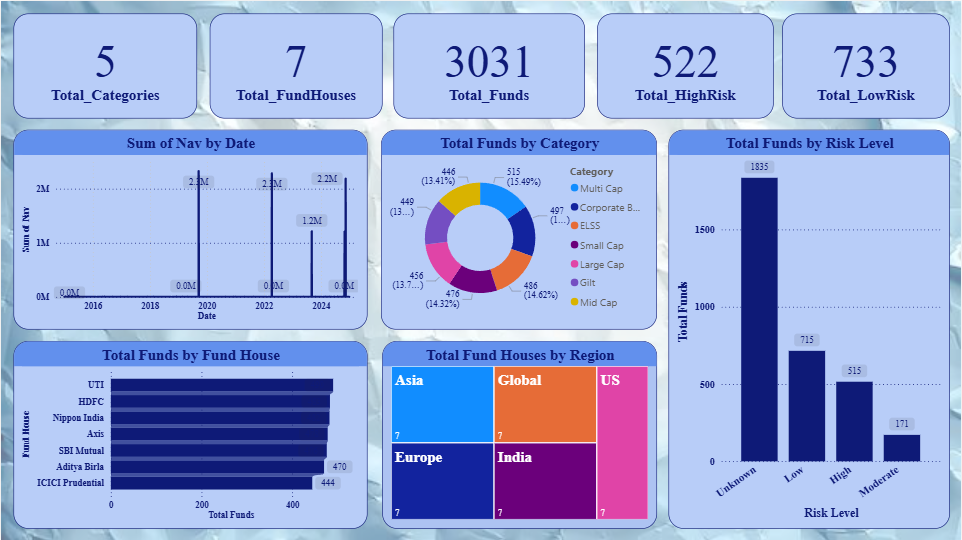

What the dashboard file says about the page in this screenshot:
{"tool":"powerbi","page":{"name":"Overview","canvas":[1280,720],"ordinal":0},"visuals":[{"type":"card","fields":{"Values":["Fact_MutualFund.Total_FundHouses"]},"box":[278.3,16.7,230,140],"z":0},{"type":"card","fields":{"Values":["Fact_MutualFund.Total_Funds"]},"box":[523.3,16.7,255,140],"z":1000},{"type":"card","fields":{"Values":["Fact_MutualFund.Total_HighRisk"]},"box":[795,16.7,235,140],"z":2000},{"type":"card","fields":{"Values":["Fact_MutualFund.Total_LowRisk"]},"box":[1041.7,16.7,223.3,140],"z":3000},{"type":"card","fields":{"Values":["Fact_MutualFund.Total_Categories"]},"box":[16.7,16.7,245,140],"z":4000},{"type":"lineChart","title":"Sum of Nav by Date","fields":{"Category":["Dim_Date.Date"],"Y":["Sum(Fact_MutualFund.nav)"]},"box":[16.7,171.7,471.7,266.7],"z":5000},{"type":"donutChart","title":"Total Funds by Category","fields":{"Y":["Fact_MutualFund.Total_Funds"],"Category":["Fact_MutualFund.category Hierarchy.category","Fact_MutualFund.category Hierarchy.sub_category"]},"box":[506.7,171.7,368.3,266.7],"z":6000},{"type":"clusteredColumnChart","title":"Total Funds by Risk Level","fields":{"Category":["Fact_MutualFund.risk_level"],"Y":["Fact_MutualFund.Total_Funds"]},"box":[890,171.7,375,531.7],"z":7000},{"type":"treemap","title":"Total Fund Houses by Region","fields":{"Values":["Fact_MutualFund.Total_FundHouses"],"Group":["Fact_MutualFund.region"]},"box":[508.3,453.3,366.7,250],"z":8000},{"type":"barChart","title":"Total Funds by Fund House","fields":{"Y":["Fact_MutualFund.Total_Funds"],"Category":["Fact_MutualFund.fund_house"]},"box":[16.7,453.3,471.7,250],"z":9000}]}

Visuals, with their boxes in screenshot pixels (x1, y1, x2, y2), scaled from the page's 1280x720 canvas onto the 962x540 screenshot:
card - Fact_MutualFund.Total_FundHouses: <box>209,13,382,118</box>
card - Fact_MutualFund.Total_Funds: <box>393,13,585,118</box>
card - Fact_MutualFund.Total_HighRisk: <box>597,13,774,118</box>
card - Fact_MutualFund.Total_LowRisk: <box>783,13,951,118</box>
card - Fact_MutualFund.Total_Categories: <box>13,13,197,118</box>
"Sum of Nav by Date" lineChart: <box>13,129,367,329</box>
"Total Funds by Category" donutChart: <box>381,129,658,329</box>
"Total Funds by Risk Level" clusteredColumnChart: <box>669,129,951,528</box>
"Total Fund Houses by Region" treemap: <box>382,340,658,527</box>
"Total Funds by Fund House" barChart: <box>13,340,367,527</box>
